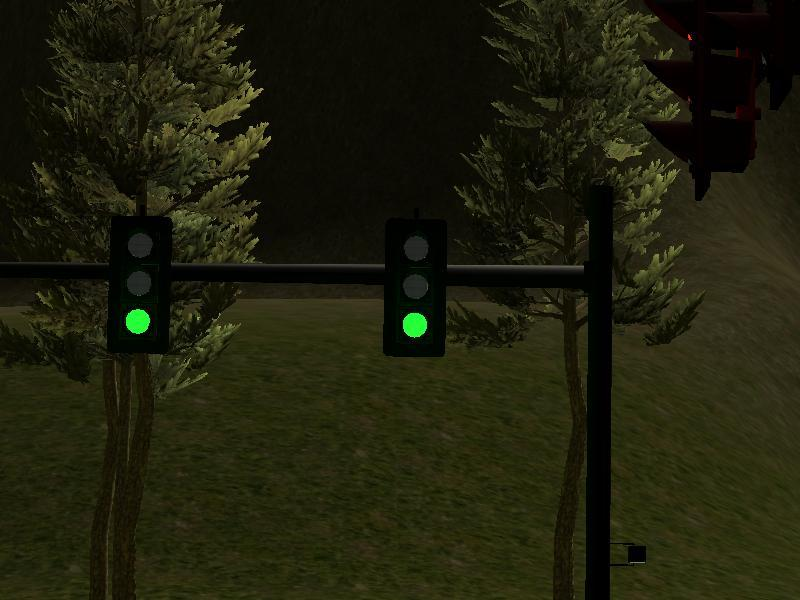Green: (389, 215, 444, 353), (113, 218, 168, 352)
